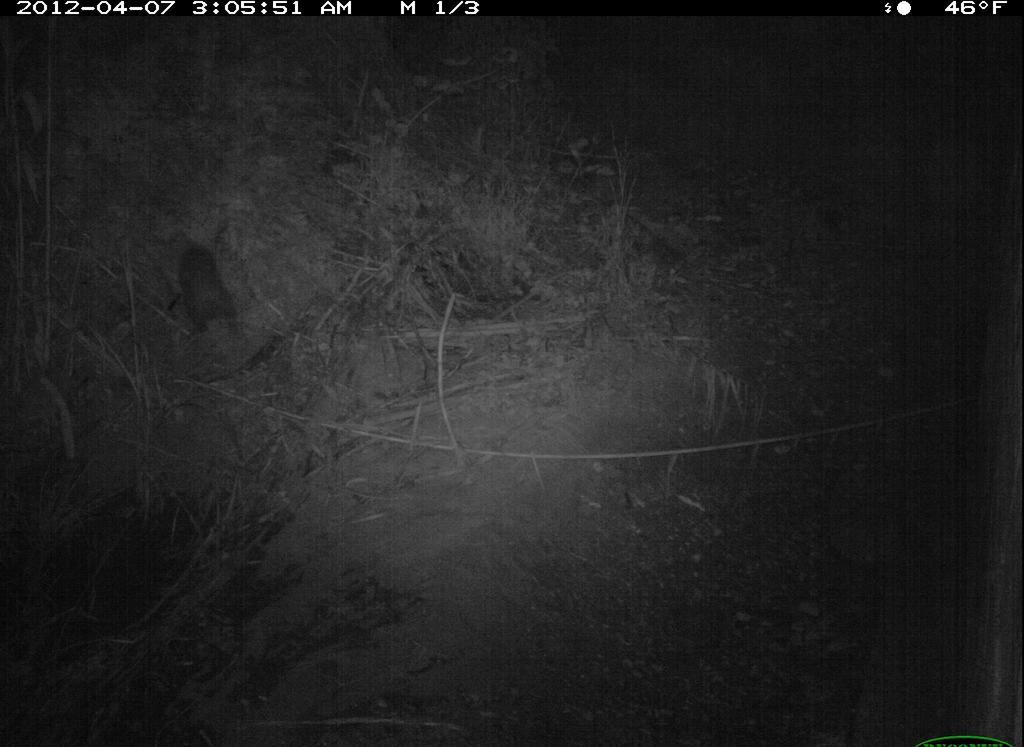opossum: (162, 230, 257, 353)
